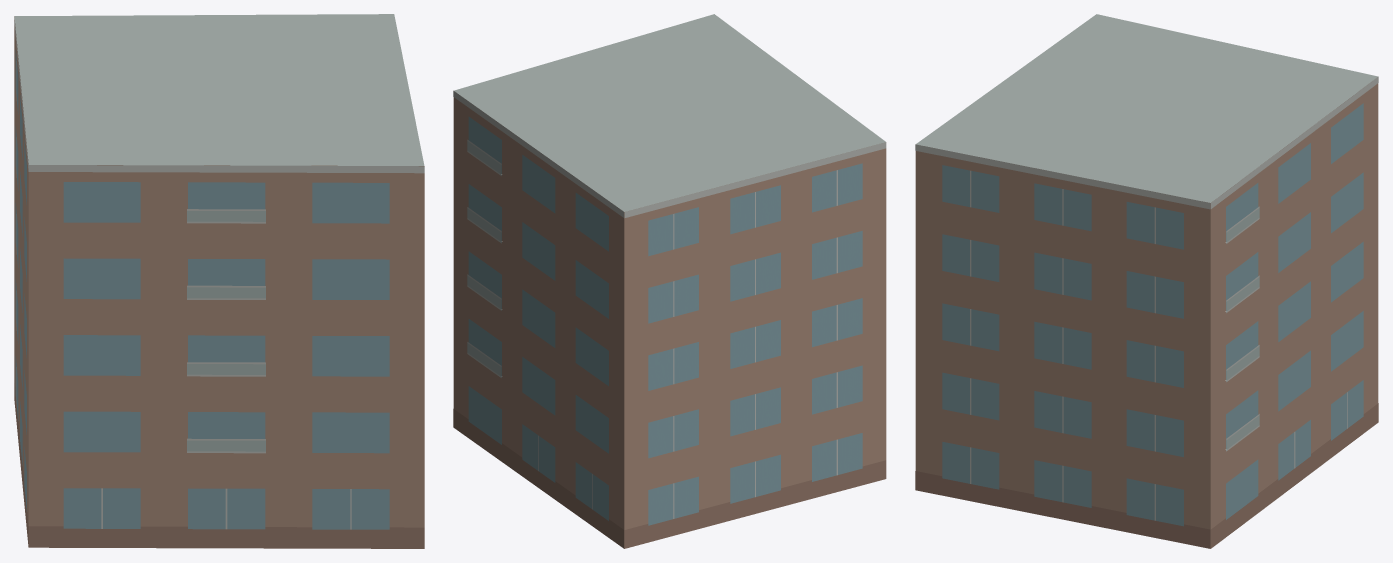
Rendered from survey-upis-32917896.glb.
The picture shows the model from 3 angles, left to right: view 1: azimuth 30°, elevation 25°; view 2: azimuth 150°, elevation 25°; view 3: azimuth 270°, elevation 25°; orthographic projection. The views are drawn at different scales.
Visible parts, largest first — view 1: survey-upis-32917896.tmp; view 2: survey-upis-32917896.tmp; view 3: survey-upis-32917896.tmp.
Part boxes in pixels (x1,y1,x2,y2): survey-upis-32917896.tmp: (14, 14, 424, 548); survey-upis-32917896.tmp: (453, 14, 886, 548); survey-upis-32917896.tmp: (915, 14, 1378, 548).
Bounding box in the file's own units: 15.36 × 13.1 × 15.9.
